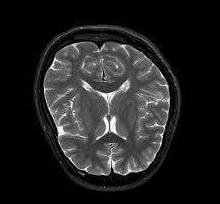Normal_Brain: (5, 1, 208, 204)
